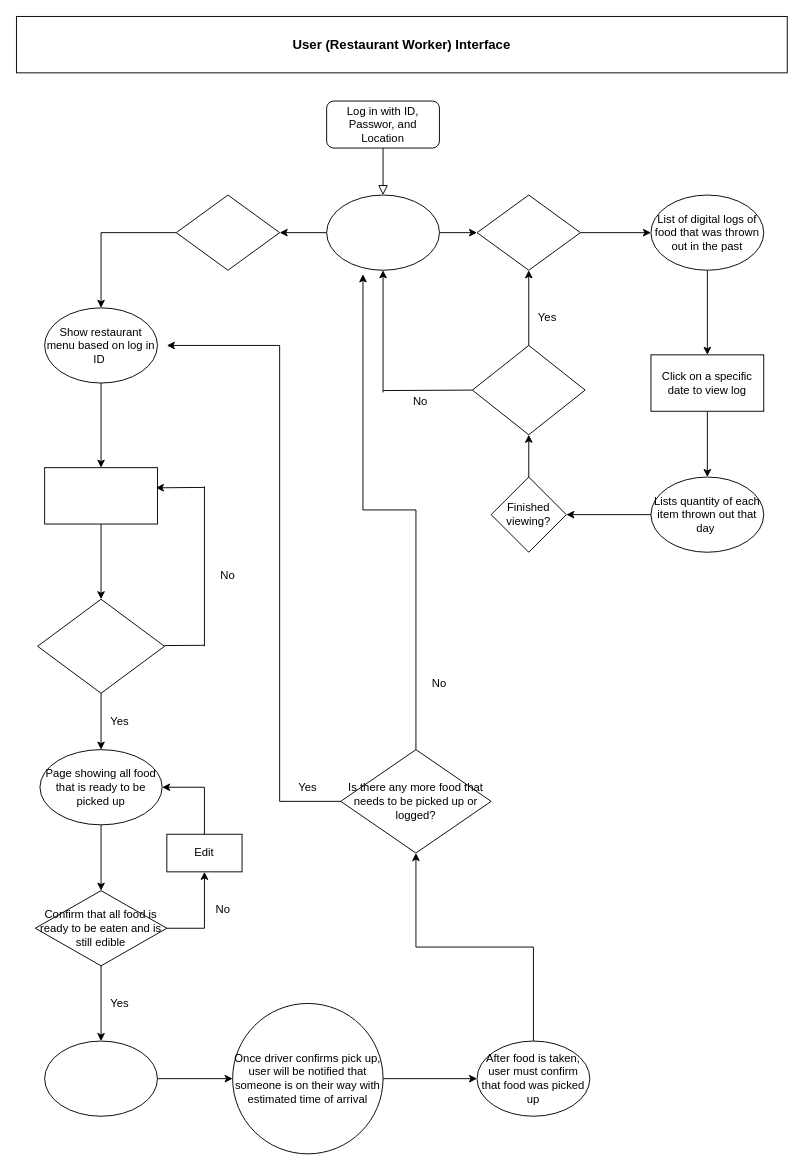
The diagram is 804 pixels wide and 1170 high, and some of its shapes have lost their labels. Each missing label, with the centre of its shape:
"Have you finished slecting all edible food being tossed?" goes at point 100,645.
"Home" goes at point 382,232.
"Select quantity of each item being thrown out" goes at point 100,495.
"Show confirmation page saying that a driver will be notified to pick up food" goes at point 100,1078.
"Start new log" goes at point 227,232.
"View past logs" goes at point 528,232.
"Would you like to view other logs?" goes at point 528,390.
